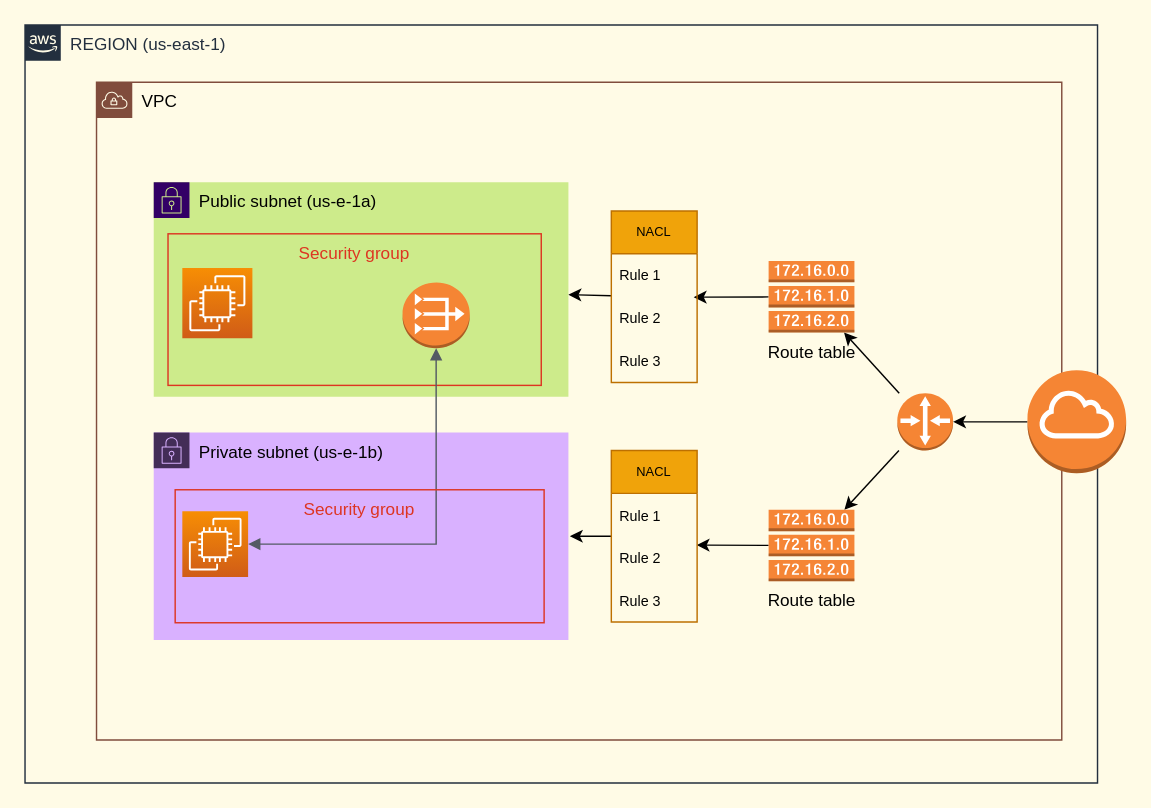
Image size: 1151x808. Some labels were removed from this diagram. The shapes that lost their labels are listed below. From the top down, each one's box as (x1, y1, x2, y2) in pixels, then its label:
(181, 267, 252, 338): Webserver
(401, 281, 470, 348): NAT Gateway
(896, 392, 953, 450): Router
(1026, 369, 1126, 473): IGW
(181, 510, 248, 577): DB server
